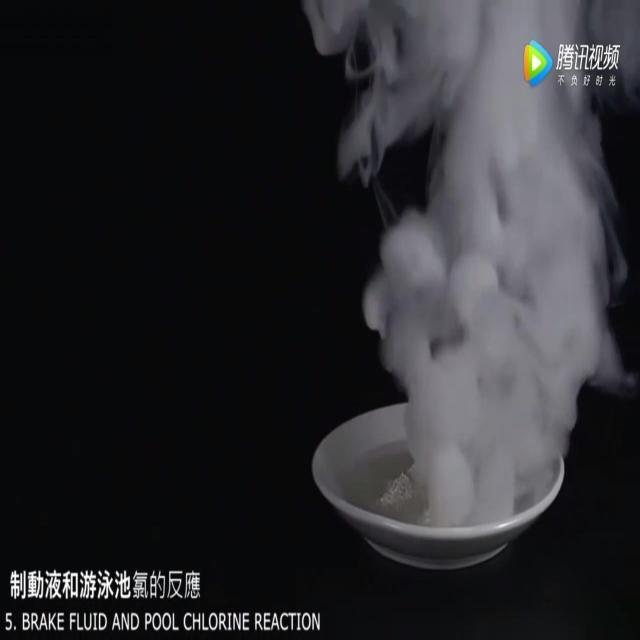Smoke: (303, 1, 640, 526)
